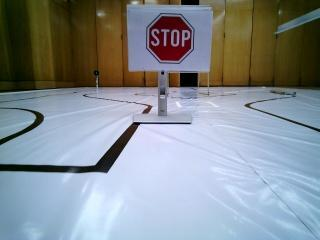stop: (133, 12, 202, 69)
